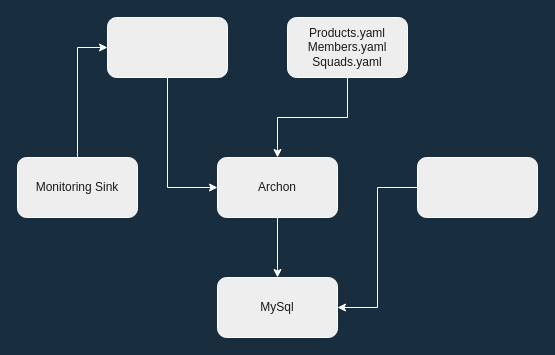
The diagram is 555 pixels wide and 355 high, and some of its shapes have lost their labels. Here are the shapes that lost their labels. From the top down, the centre of each, then its label:
At [167,47]: "Data.csv".
At [477,187]: "Grafana".
